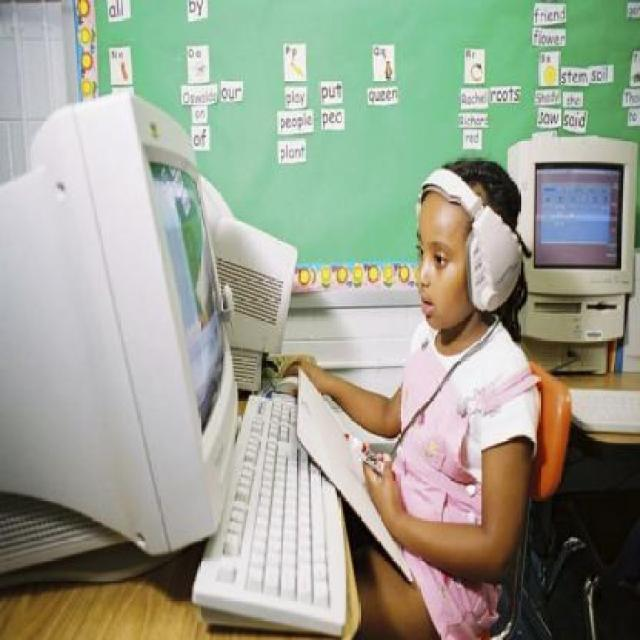earphone: (430, 168, 537, 312)
laptop_computer: (3, 96, 227, 546), (520, 130, 635, 328)
